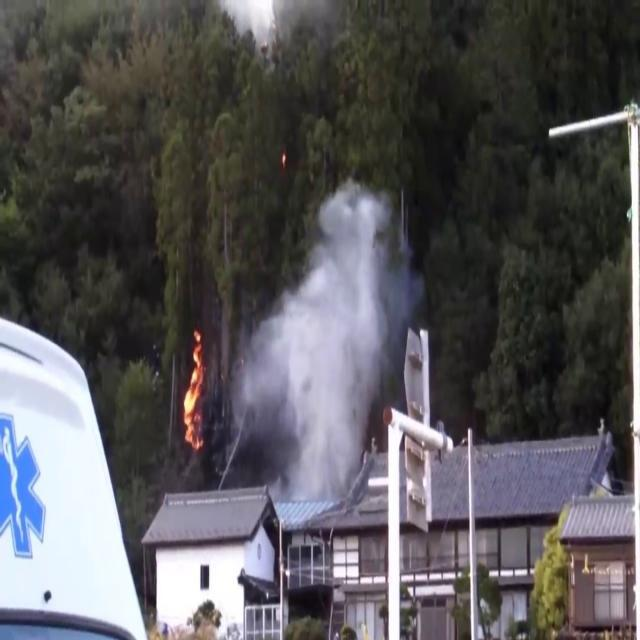Fire: (178, 324, 210, 451)
Smoke: (230, 165, 412, 502)
